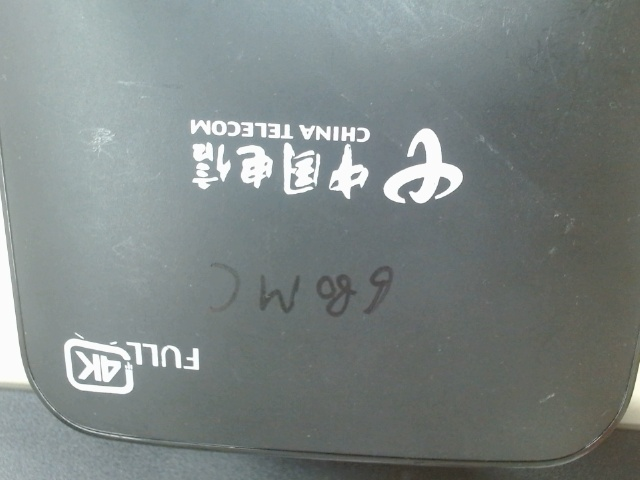AB_ChinaTelecom: (176, 106, 476, 220)
